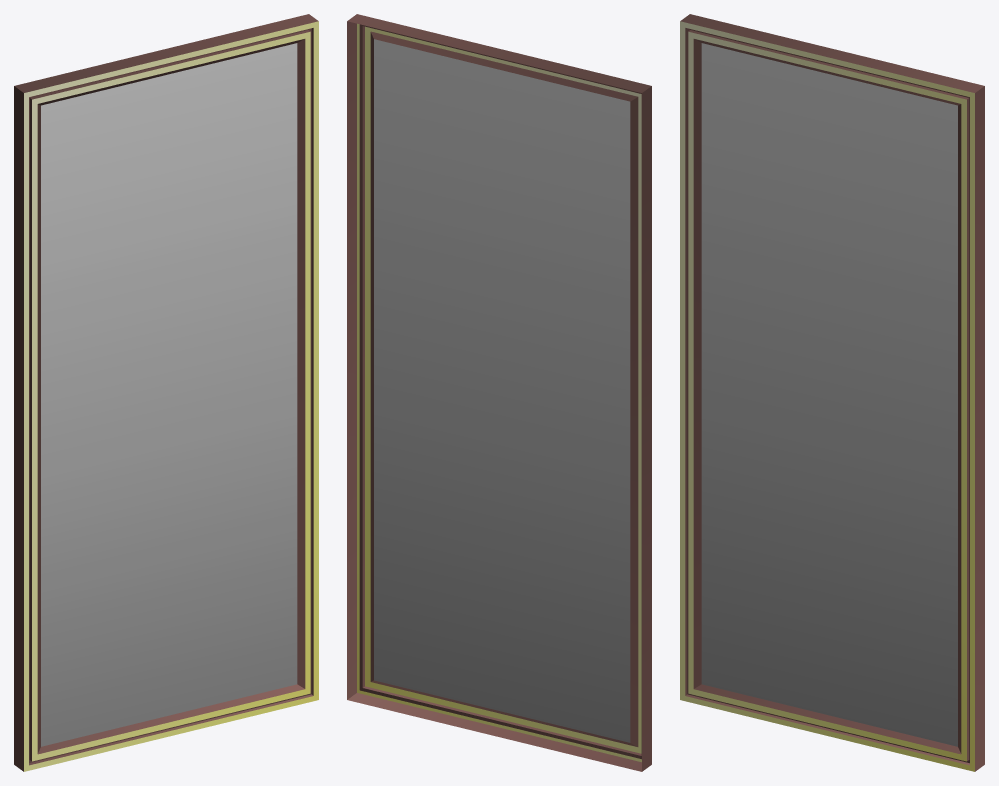
Rendered from CR_Mirror_001.FBX.
3 renders of one model, left to right at view 1: azimuth 30°, elevation 25°; view 2: azimuth 150°, elevation 25°; view 3: azimuth 330°, elevation 25°, orthographic.
Parts seen in each view (by area): view 1: CR_Mirror_001; view 2: CR_Mirror_001; view 3: CR_Mirror_001.
Boxes of the visible parts, x1,y1,x2,y2 form: CR_Mirror_001: (14,14,318,771); CR_Mirror_001: (347,14,651,771); CR_Mirror_001: (680,14,984,771).
Size of the model in its own units: 56.9 by 125 by 3.3.
Materials: 1 (1 with a texture image).
